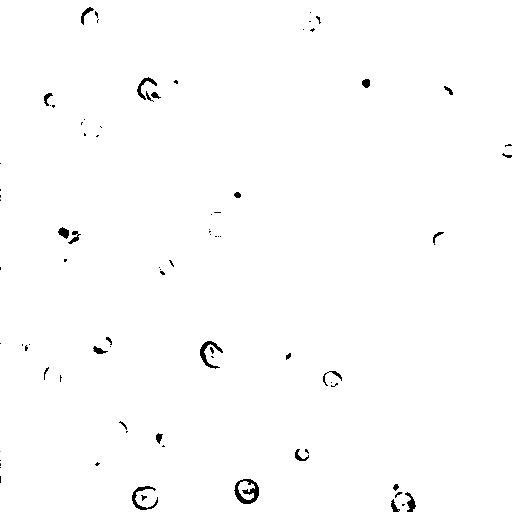micro-algae: (27, 89, 140, 200), (97, 387, 170, 462), (235, 414, 306, 480), (56, 405, 121, 470), (129, 38, 190, 95), (57, 86, 105, 131), (50, 264, 95, 310), (402, 0, 469, 29), (477, 443, 512, 491), (44, 212, 86, 249), (50, 238, 91, 274), (482, 43, 512, 88), (168, 419, 205, 454), (292, 5, 328, 40), (431, 75, 465, 109), (162, 55, 192, 92), (34, 84, 67, 117), (203, 208, 236, 241), (267, 345, 304, 373), (490, 58, 512, 105), (350, 67, 381, 98), (215, 75, 246, 106), (280, 399, 313, 427), (199, 339, 228, 369), (138, 424, 169, 452), (77, 114, 109, 141), (135, 75, 164, 103), (233, 478, 262, 506), (131, 485, 161, 512), (0, 473, 20, 512), (38, 13, 65, 41), (13, 335, 39, 362), (85, 454, 113, 477), (3, 396, 29, 420), (388, 490, 417, 511), (90, 331, 114, 356), (387, 474, 409, 500), (430, 228, 453, 252), (79, 6, 100, 30), (44, 364, 64, 389), (261, 94, 283, 116), (107, 421, 128, 442), (322, 370, 344, 389), (158, 258, 176, 278), (228, 186, 248, 202), (293, 446, 311, 463), (27, 504, 58, 512), (502, 143, 512, 160)
